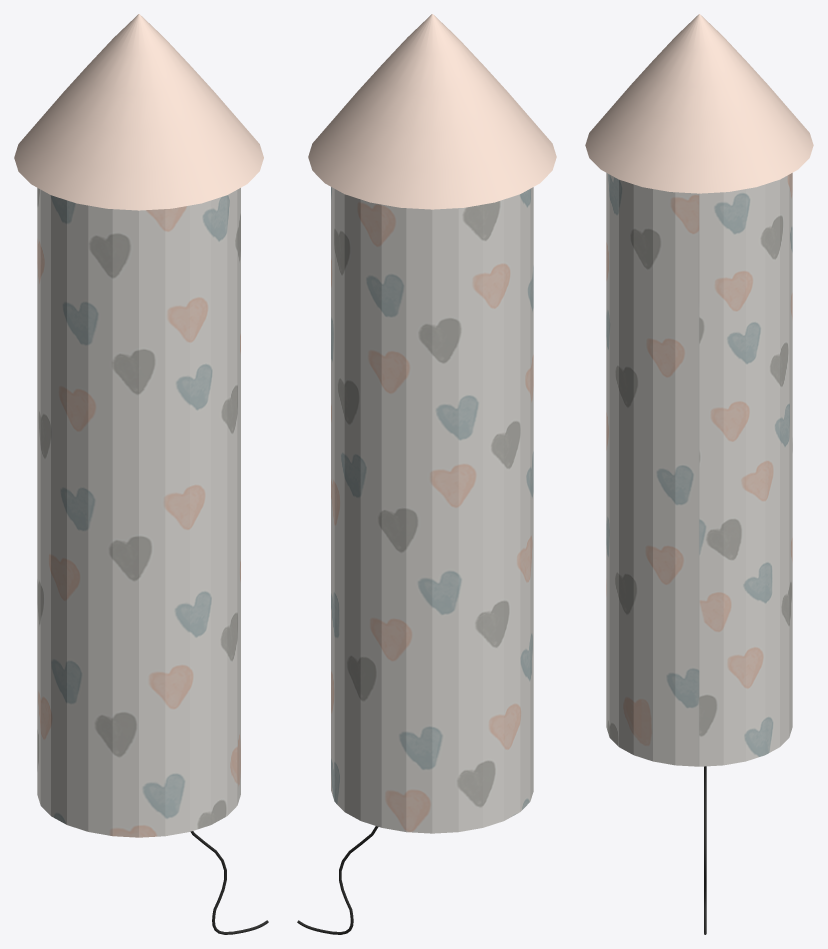
File: firecracker_nostick2.fbx
3 views of the same model, side by side, from view 1: azimuth 30°, elevation 25°; view 2: azimuth 150°, elevation 25°; view 3: azimuth 270°, elevation 25° (orthographic). The views are drawn at different scales.
Parts seen in each view (by area): view 1: Cone002; view 2: Cone002; view 3: Cone002.
Boxes of the visible parts, x1,y1,x2,y2 form: Cone002: [14, 14, 268, 934]; Cone002: [297, 14, 556, 934]; Cone002: [585, 14, 813, 934].
Size of the model in its own units: 57.62 by 217 by 51.81.
